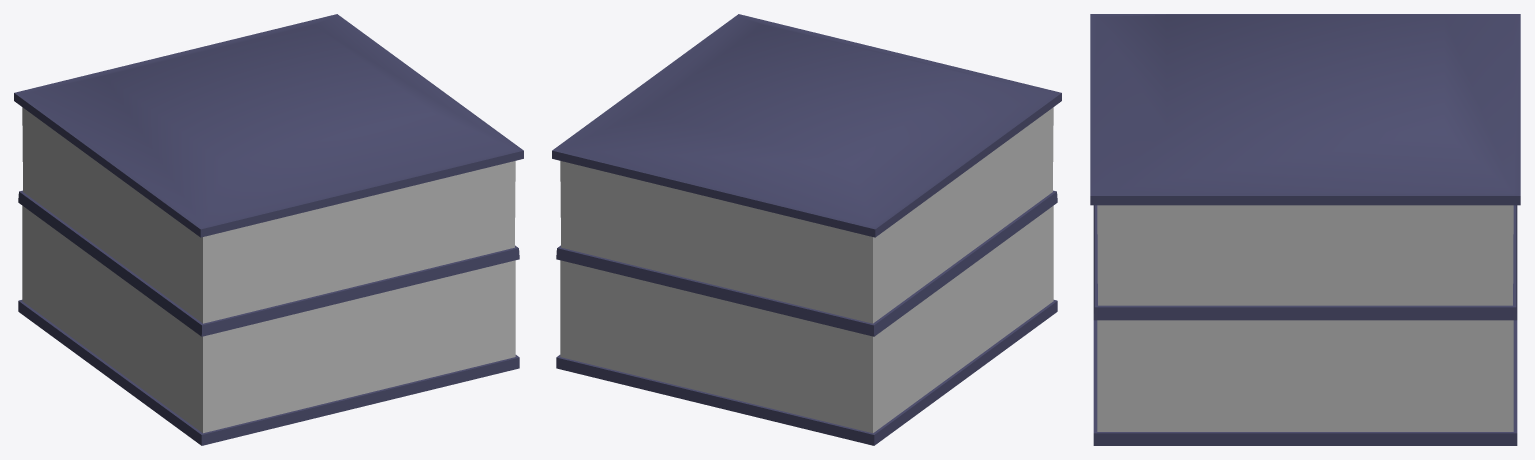
The model's file is paris_building_scaled_short_02.fbx.
3 views of the same model, side by side, from view 1: azimuth 30°, elevation 25°; view 2: azimuth 150°, elevation 25°; view 3: azimuth 270°, elevation 25° (orthographic). The views are drawn at different scales.
Visible parts, largest first — view 1: Cube-convcol; view 2: Cube-convcol; view 3: Cube-convcol.
Boxes of the visible parts, x1,y1,x2,y2 form: Cube-convcol: [14, 14, 523, 445]; Cube-convcol: [552, 14, 1061, 445]; Cube-convcol: [1090, 14, 1520, 445].
Size of the model in its own units: 1240 by 900 by 1240.
